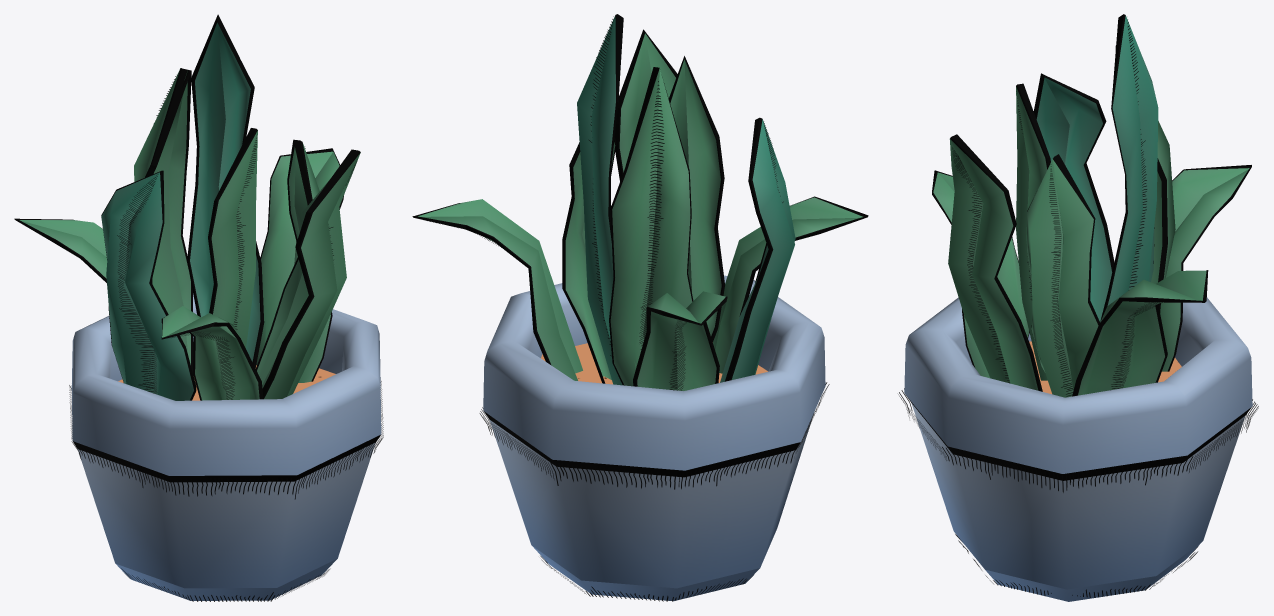
The model's file is FlowerPot_Small_03.glb.
3 views of the same model, side by side, from view 1: azimuth 30°, elevation 25°; view 2: azimuth 150°, elevation 25°; view 3: azimuth 270°, elevation 25° (orthographic). The views are drawn at different scales.
Parts seen in each view (by area): view 1: FlowerPot_Small_03; view 2: FlowerPot_Small_03; view 3: FlowerPot_Small_03.
Part boxes in pixels (left/top/right/bottom): FlowerPot_Small_03: left=14, top=14, right=383, bottom=601; FlowerPot_Small_03: left=412, top=14, right=868, bottom=601; FlowerPot_Small_03: left=898, top=14, right=1258, bottom=601.
Size of the model in its own units: 0.758 by 1.21 by 0.724.
3 materials, 3 textured.
